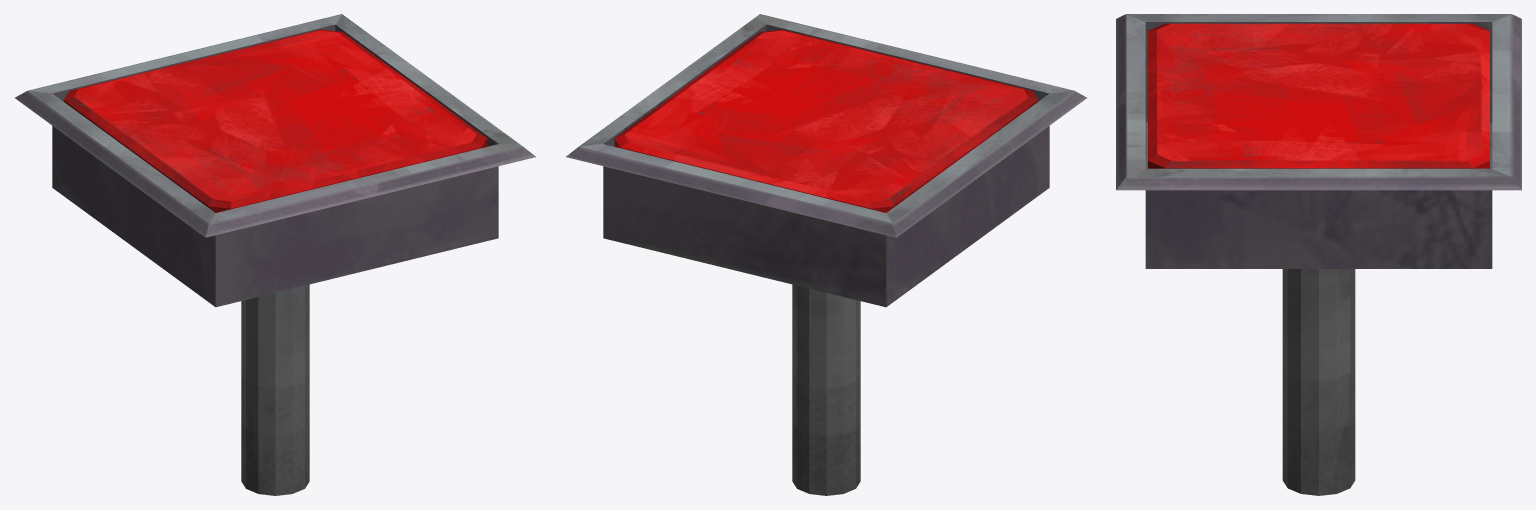
Rendered from tile_spring.fbx.
The picture shows the model from 3 angles, left to right: view 1: azimuth 30°, elevation 25°; view 2: azimuth 150°, elevation 25°; view 3: azimuth 270°, elevation 25°; orthographic projection. The views are drawn at different scales.
Visible parts, largest first — view 1: floor_tile_spring, floor_tile_spring_base; view 2: floor_tile_spring, floor_tile_spring_base; view 3: floor_tile_spring, floor_tile_spring_base.
Part boxes in pixels (x1,y1,x2,y2): floor_tile_spring: (63,29,487,495); floor_tile_spring_base: (15,14,535,307); floor_tile_spring: (614,29,1038,495); floor_tile_spring_base: (566,14,1086,307); floor_tile_spring: (1148,23,1489,495); floor_tile_spring_base: (1116,14,1521,268).
Bounding box in the file's own units: 0.02 × 0.0211 × 0.02.
